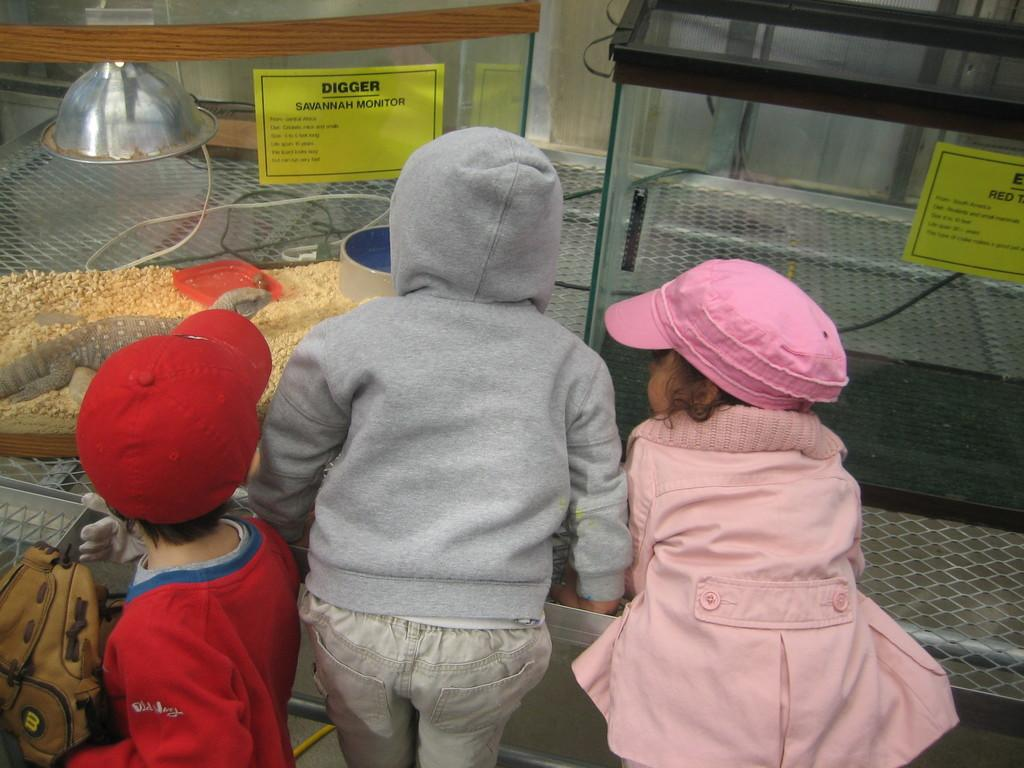Hat: (74, 308, 274, 526), (603, 256, 851, 412)
